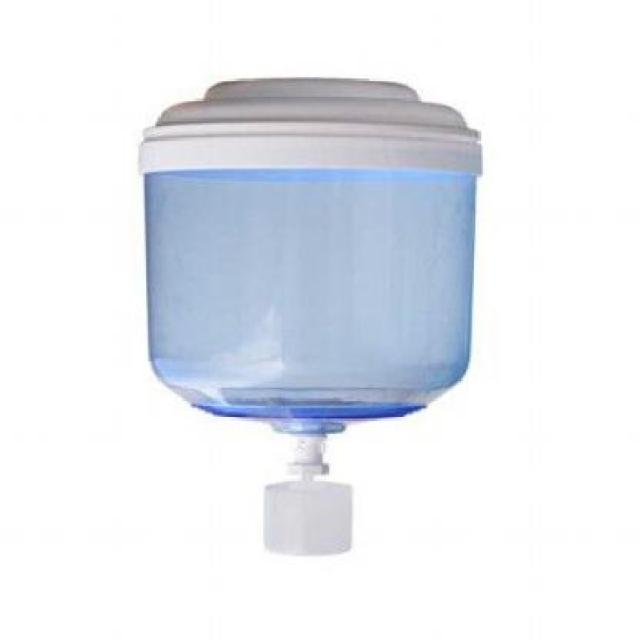coolerbottle: (137, 71, 489, 440)
